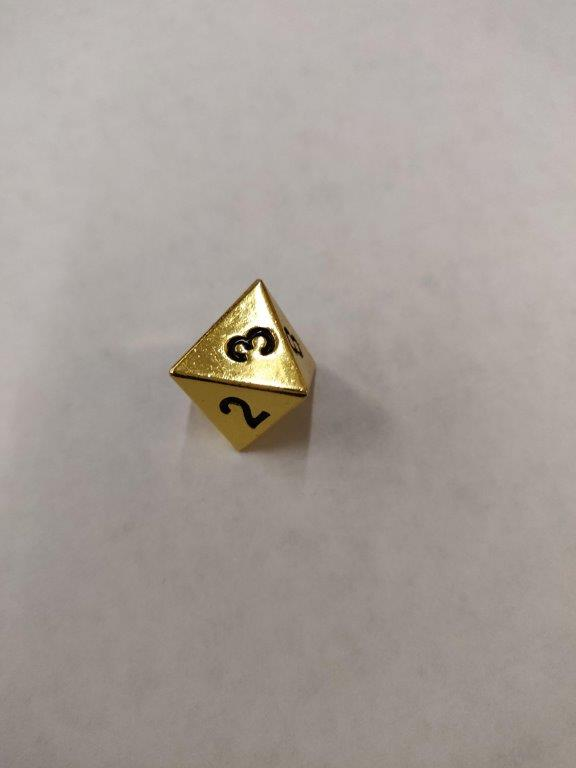d8-3: (167, 278, 318, 457)
